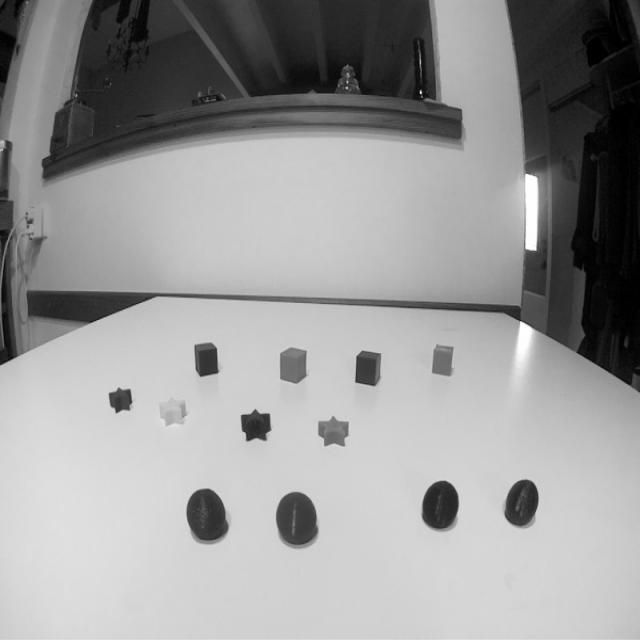ball: (185, 484, 230, 547), (274, 487, 319, 550), (420, 474, 461, 535), (500, 473, 541, 529)
cube: (277, 344, 311, 386), (354, 347, 384, 388), (193, 339, 221, 381), (431, 339, 456, 381)
star: (314, 411, 355, 455), (236, 405, 276, 446), (155, 392, 190, 430), (105, 382, 134, 414)
